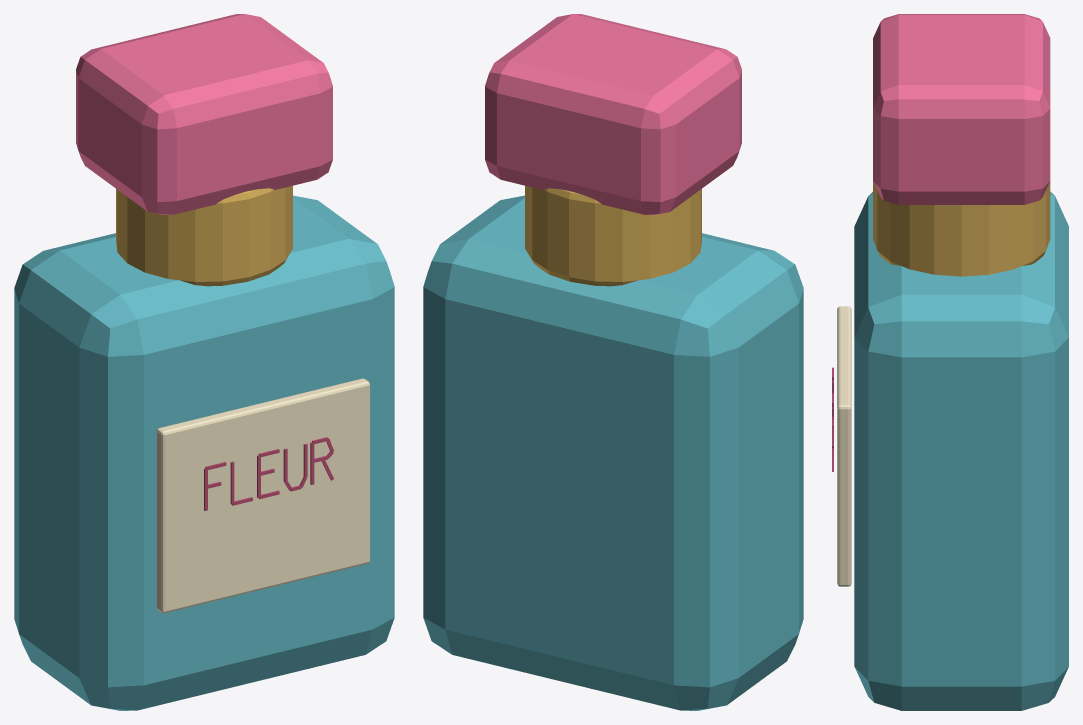
The model's file is P004_perfume.glb.
The picture shows the model from 3 angles, left to right: view 1: azimuth 30°, elevation 25°; view 2: azimuth 150°, elevation 25°; view 3: azimuth 270°, elevation 25°; orthographic projection.
Parts seen in each view (by area): view 1: P004_bottle_001, P004_stopper_005, P004_label_002, P004_neck_004, P004_label_003; view 2: P004_bottle_001, P004_stopper_005, P004_neck_004; view 3: P004_bottle_001, P004_stopper_005, P004_neck_004, P004_label_002.
Boxes of the visible parts, bbox=[...] form: P004_bottle_001: bbox=[14, 195, 394, 710]; P004_stopper_005: bbox=[76, 14, 332, 214]; P004_label_002: bbox=[156, 378, 369, 613]; P004_neck_004: bbox=[116, 185, 292, 286]; P004_label_003: bbox=[204, 437, 333, 510]; P004_bottle_001: bbox=[423, 195, 803, 710]; P004_stopper_005: bbox=[485, 14, 741, 214]; P004_neck_004: bbox=[525, 185, 701, 286]; P004_bottle_001: bbox=[854, 192, 1068, 710]; P004_stopper_005: bbox=[873, 14, 1050, 204]; P004_neck_004: bbox=[873, 181, 1050, 276]; P004_label_002: bbox=[837, 306, 851, 586].
Size of the model in its own units: 0.125 by 0.233 by 0.0829.
